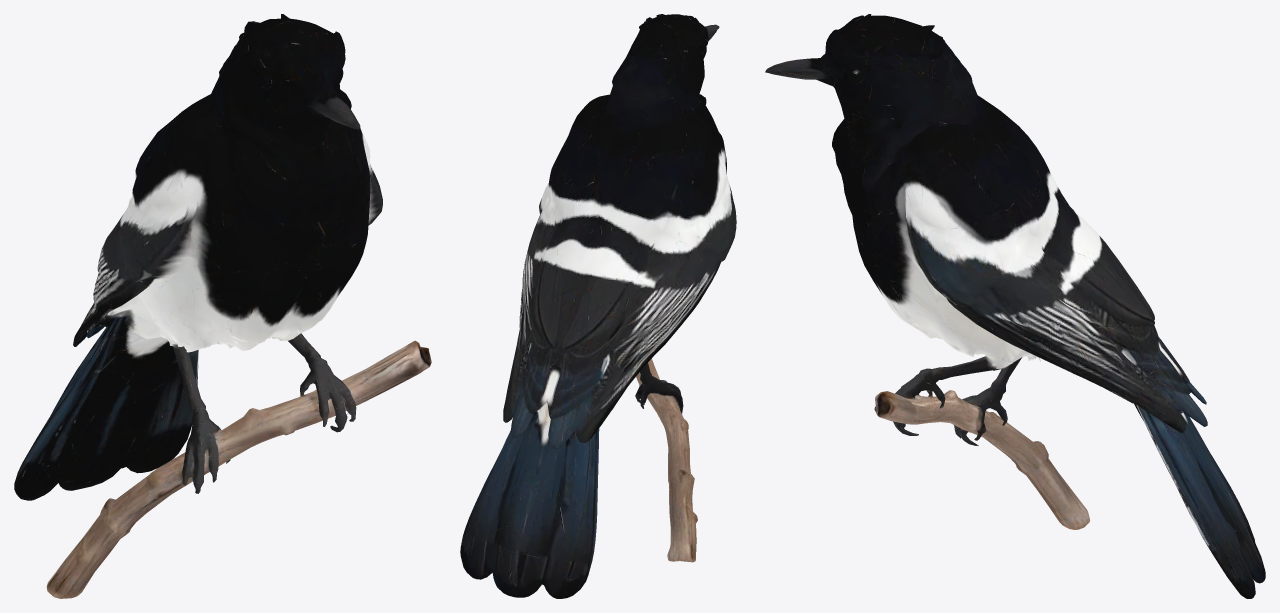
File: bird-ekster.glb
The picture shows the model from 3 angles, left to right: view 1: azimuth 30°, elevation 25°; view 2: azimuth 150°, elevation 25°; view 3: azimuth 270°, elevation 25°; orthographic projection. The views are drawn at different scales.
Bounding box in the file's own units: 0.904 × 1.91 × 1.55.
Materials: 1 (1 with a texture image).
